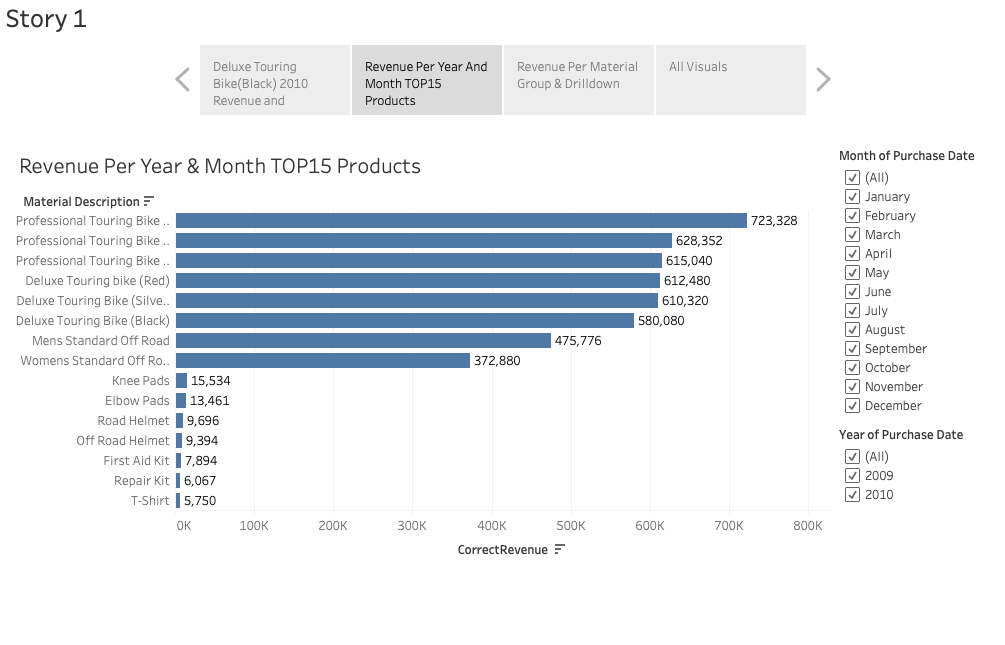

The page's visual inventory and layout, read from the dashboard file:
{"tool":"tableau","page":{"name":"Dashboard 2","canvas":[1000,800],"ordinal":1},"visuals":[{"type":"worksheet","title":"Revenue Per Year & Month TOP15 Products","mark":"Automatic","rows":["Material Description"],"cols":["Calculation_6862148852629790720"],"box":[8,8,824,784]},{"type":"filter","title":"Revenue Per Year & Month TOP15 Products","param":"[federated.0aq4g421knp6zg1cujwxk1yxbvzn].[mn:Purchase Date:ok]","box":[832,8,160,279]},{"type":"filter","title":"Revenue Per Year & Month TOP15 Products","param":"[federated.0aq4g421knp6zg1cujwxk1yxbvzn].[yr:Purchase Date:ok]","box":[832,287,160,89]}]}

Visuals, with their boxes on the page's 1000x800 design canvas (x1, y1, x2, y2). These are canvas units, not pixel positions in the 1005x645 screenshot, which may show the page scaled, cropped or inside an application window:
"Revenue Per Year & Month TOP15 Products" worksheet: l=8, t=8, r=832, b=792
"Revenue Per Year & Month TOP15 Products" filter: l=832, t=8, r=992, b=287
"Revenue Per Year & Month TOP15 Products" filter: l=832, t=287, r=992, b=376
